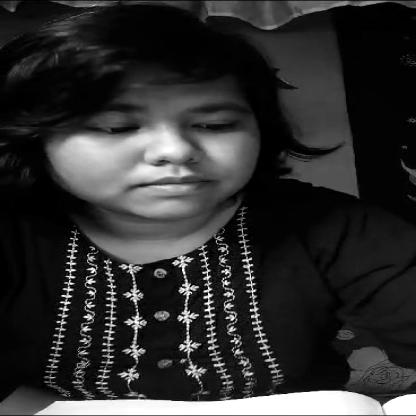Normal: (16, 32, 282, 234)
